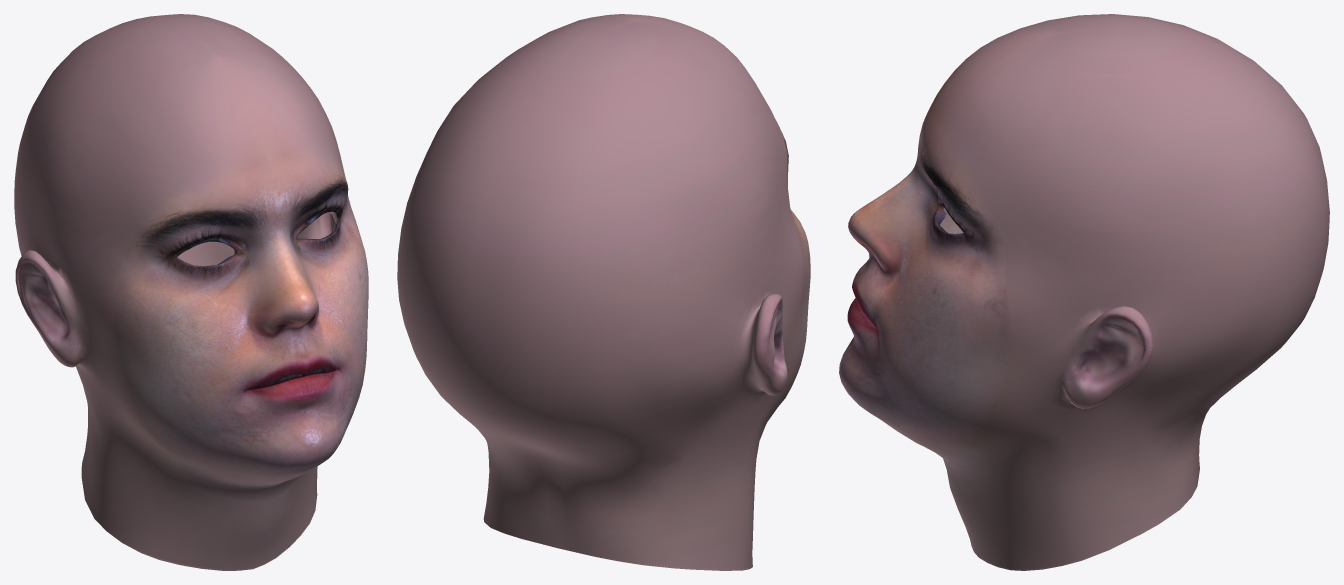
The picture shows the model from 3 angles, left to right: view 1: azimuth 30°, elevation 25°; view 2: azimuth 150°, elevation 25°; view 3: azimuth 270°, elevation 25°; orthographic projection. The views are drawn at different scales.
Parts seen in each view (by area): view 1: FaceGen; view 2: FaceGen; view 3: FaceGen.
Part boxes in pixels (x1,y1,x2,y2): FaceGen: (14,14,368,570); FaceGen: (397,14,810,570); FaceGen: (839,14,1329,570).
Size of the model in its own units: 192 by 281 by 240.
1 material, 1 textured.
